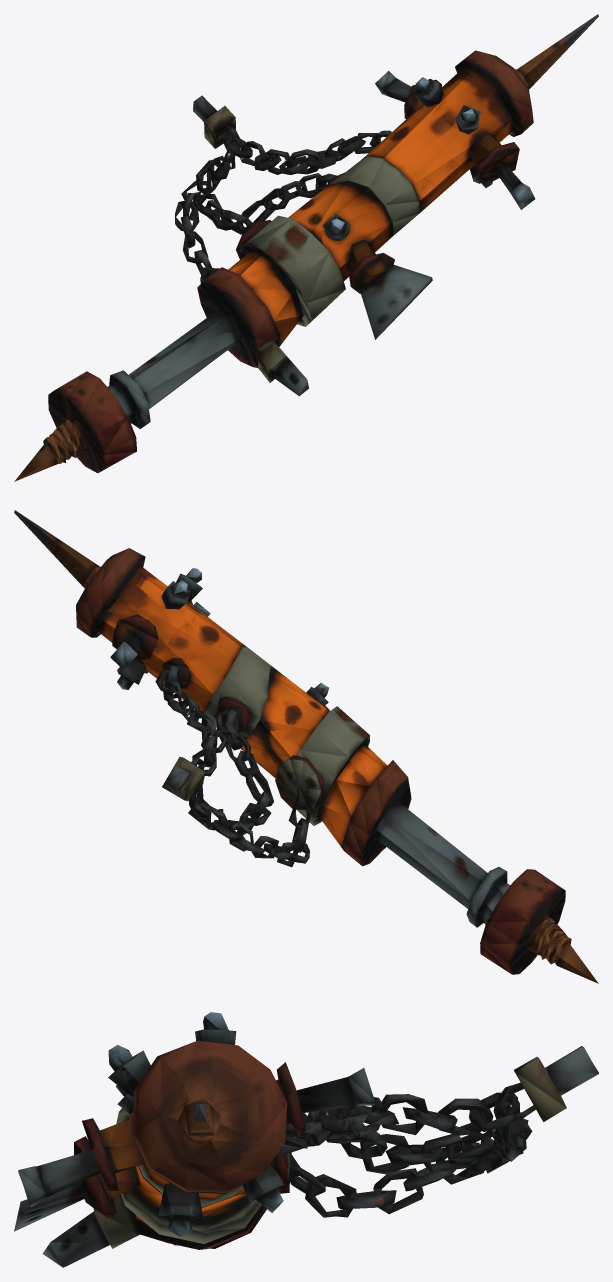
Rendered from wpn_thunderstick.glb.
3 renders of one model, top to bottom at view 1: azimuth 30°, elevation 25°; view 2: azimuth 150°, elevation 25°; view 3: azimuth 270°, elevation 25°, orthographic. The views are drawn at different scales.
Parts seen in each view (by area): view 1: tripo_node_2aacf051; view 2: tripo_node_2aacf051; view 3: tripo_node_2aacf051.
Part boxes in pixels (<box>): tripo_node_2aacf051: <box>14,14,598,481</box>; tripo_node_2aacf051: <box>14,510,598,983</box>; tripo_node_2aacf051: <box>14,1012,598,1267</box>.
Bounding box in the file's own units: 0.9979 × 0.5451 × 0.5353.
Materials: 1 (1 with a texture image).
